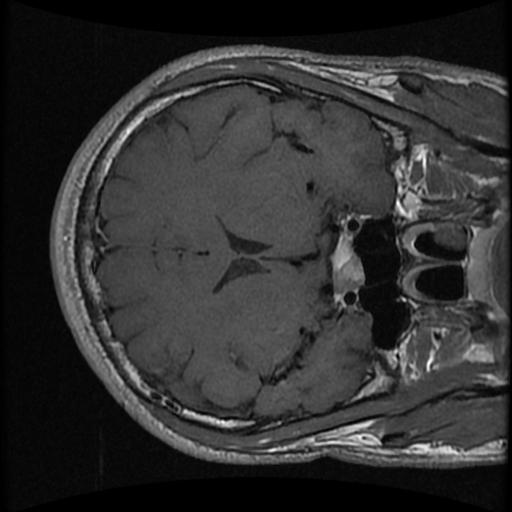pituitary tumour: (330, 228, 363, 299)
